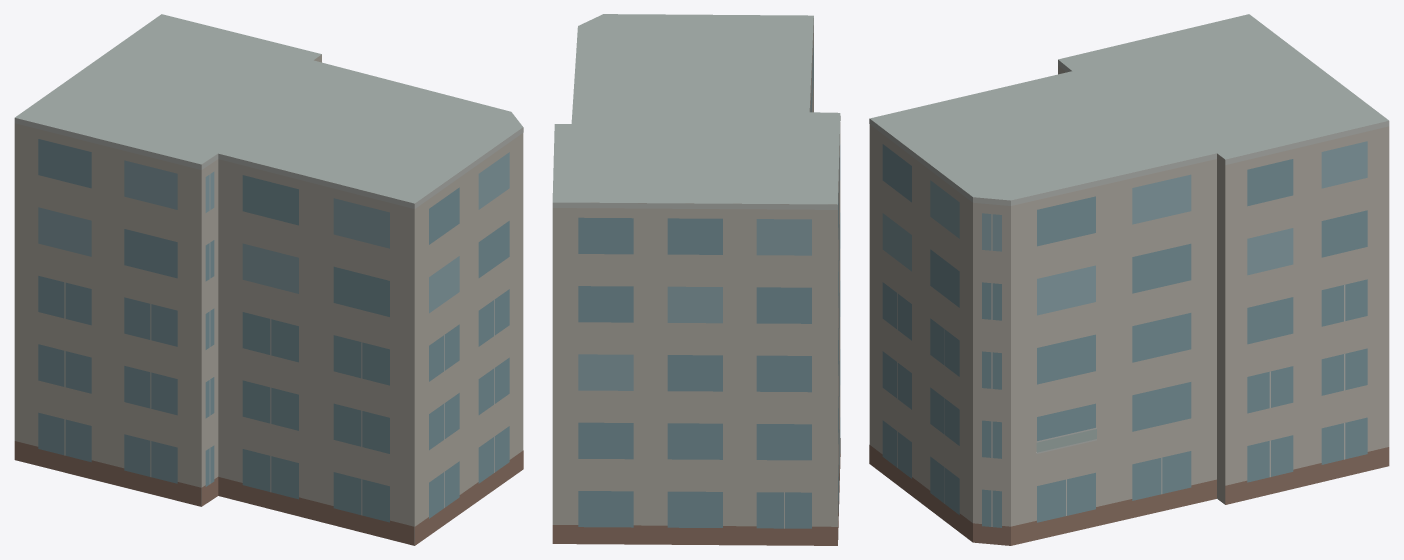
The model's file is survey-upis-32776606.glb.
3 views of the same model, side by side, from view 1: azimuth 30°, elevation 25°; view 2: azimuth 150°, elevation 25°; view 3: azimuth 270°, elevation 25° (orthographic).
Visible parts, largest first — view 1: survey-upis-32776606.tmp; view 2: survey-upis-32776606.tmp; view 3: survey-upis-32776606.tmp.
Part boxes in pixels (x1=…): survey-upis-32776606.tmp: x1=14, y1=14, x2=523, y2=545; survey-upis-32776606.tmp: x1=552, y1=14, x2=840, y2=545; survey-upis-32776606.tmp: x1=869, y1=14, x2=1389, y2=545.
Size of the model in its own units: 17.49 by 15.1 by 20.6.
